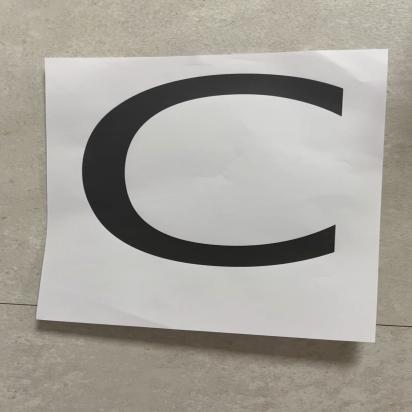seat: (37, 33, 396, 344)
